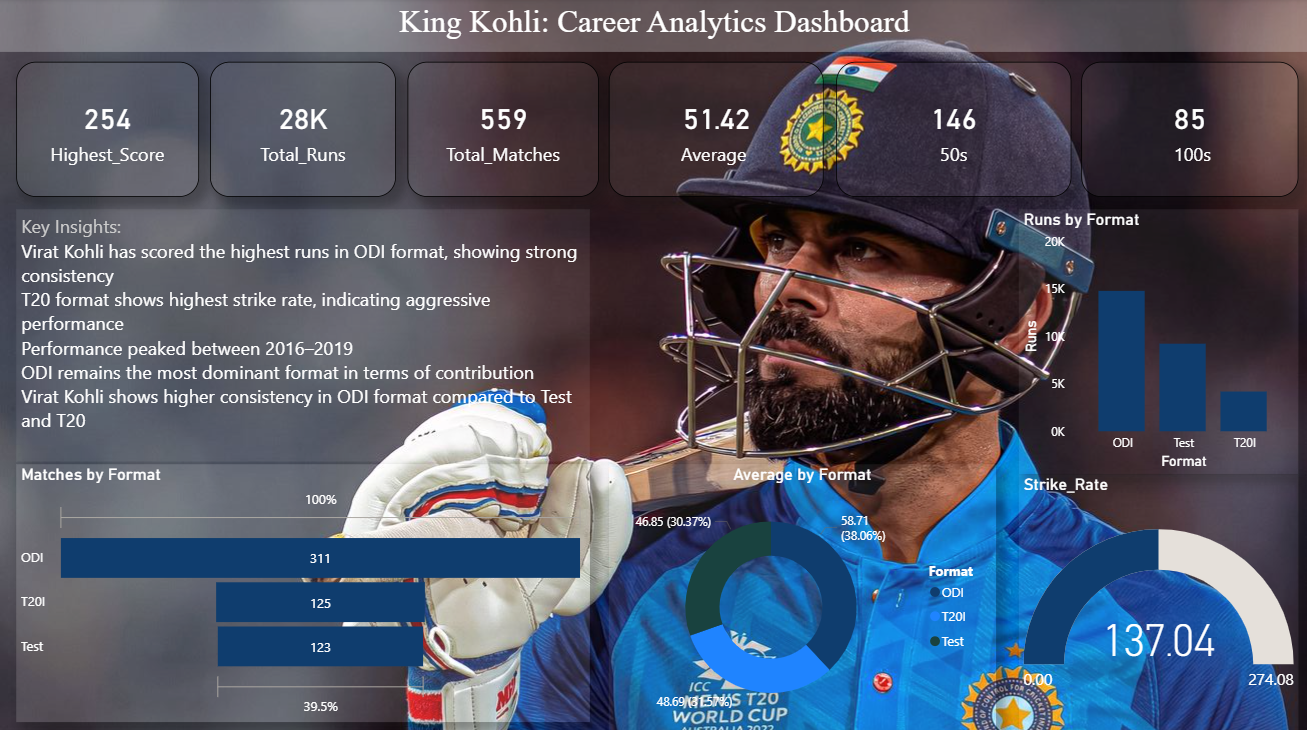

What the dashboard file says about the page in this screenshot:
{"tool":"powerbi","page":{"name":"Page 1","canvas":[1340,751],"ordinal":0},"visuals":[{"type":"image","box":[0,0,1340,751.3],"z":0},{"type":"card","fields":{"Values":["Max(virat_kohli_career_summary.Highest)"]},"box":[16.6,65.3,186.9,138.2],"z":1000},{"type":"card","fields":{"Values":["Sum(virat_kohli_career_summary.Runs)"]},"box":[215,65.3,190.7,138.2],"z":2000},{"type":"card","fields":{"Values":["Sum(virat_kohli_career_summary.Matches)"]},"box":[417.2,65.3,195.8,138.2],"z":3000},{"type":"card","fields":{"Values":["Avg(virat_kohli_career_summary.Average)"]},"box":[623.3,65.3,220.1,138.2],"z":4000},{"type":"card","fields":{"Values":["Sum(virat_kohli_career_summary.50s)"]},"box":[856.2,65.3,240.6,138.2],"z":5000},{"type":"card","fields":{"Values":["Sum(virat_kohli_career_summary.100s)"]},"box":[1107.1,65.3,222.7,138.2],"z":6000},{"type":"columnChart","fields":{"Category":["virat_kohli_career_summary.Format"],"Y":["Sum(virat_kohli_career_summary.Runs)"]},"box":[1043.1,216.3,286.7,271.3],"z":7000},{"type":"funnel","fields":{"Category":["virat_kohli_career_summary.Format"],"Y":["Sum(virat_kohli_career_summary.Matches)"]},"box":[16.6,477.4,587.4,263.6],"z":8000},{"type":"donutChart","fields":{"Category":["virat_kohli_career_summary.Format"],"Y":["Sum(virat_kohli_career_summary.Average)"]},"box":[623.3,477.4,396.7,273.9],"z":9000},{"type":"gauge","fields":{"Y":["Max(virat_kohli_career_summary.Strike_Rate)"]},"box":[1043.1,487.6,286.7,263.6],"z":11000},{"type":"textbox","box":[16.6,216.3,587.4,258.5],"z":12000},{"type":"textbox","box":[0,0,1340,55],"z":12001}]}

Visuals, with their boxes in screenshot pixels (x1, y1, x2, y2), scaled from the page's 1340x751 canvas onto the 1307x730 screenshot:
image: x1=0 y1=0 x2=1306 y2=729
card - Max(virat_kohli_career_summary.Highest): x1=16 y1=63 x2=198 y2=198
card - Sum(virat_kohli_career_summary.Runs): x1=210 y1=63 x2=396 y2=198
card - Sum(virat_kohli_career_summary.Matches): x1=407 y1=63 x2=598 y2=198
card - Avg(virat_kohli_career_summary.Average): x1=608 y1=63 x2=823 y2=198
card - Sum(virat_kohli_career_summary.50s): x1=835 y1=63 x2=1070 y2=198
card - Sum(virat_kohli_career_summary.100s): x1=1080 y1=63 x2=1297 y2=198
columnChart - virat_kohli_career_summary.Format x Sum(virat_kohli_career_summary.Runs): x1=1017 y1=210 x2=1297 y2=474
funnel - virat_kohli_career_summary.Format x Sum(virat_kohli_career_summary.Matches): x1=16 y1=464 x2=589 y2=720
donutChart - virat_kohli_career_summary.Format x Sum(virat_kohli_career_summary.Average): x1=608 y1=464 x2=995 y2=729
gauge - Max(virat_kohli_career_summary.Strike_Rate): x1=1017 y1=474 x2=1297 y2=729
textbox: x1=16 y1=210 x2=589 y2=462
textbox: x1=0 y1=0 x2=1306 y2=53
